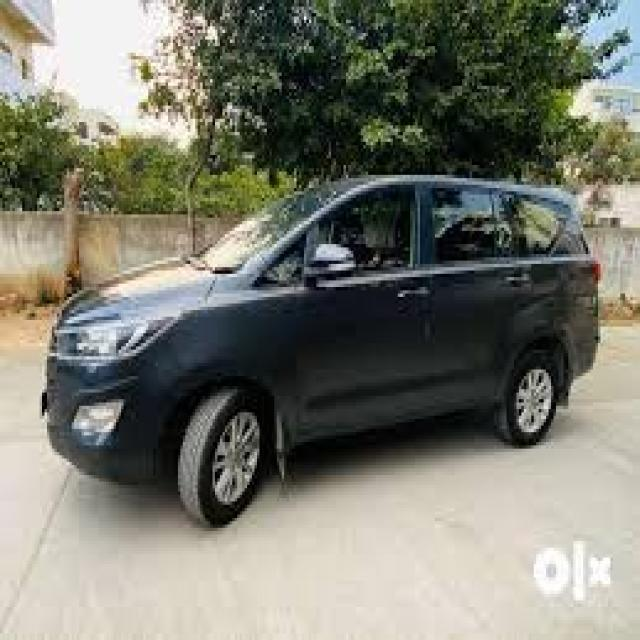light_vehicle: (39, 173, 600, 531)
